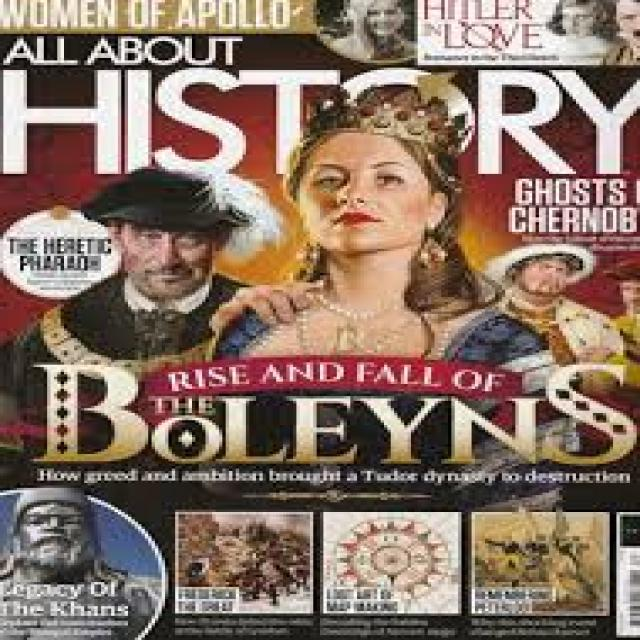paper: (3, 0, 640, 633)
